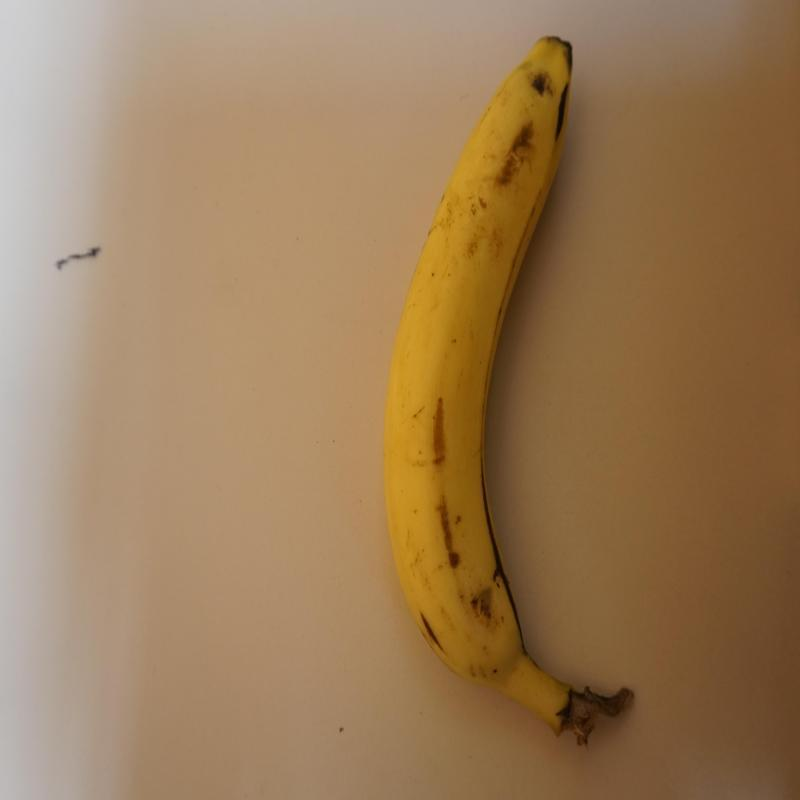Banana: (380, 36, 632, 745)
